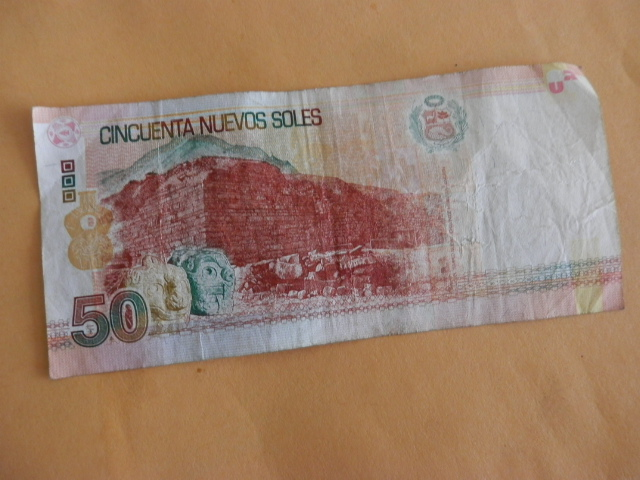B50: (24, 76, 630, 361)
